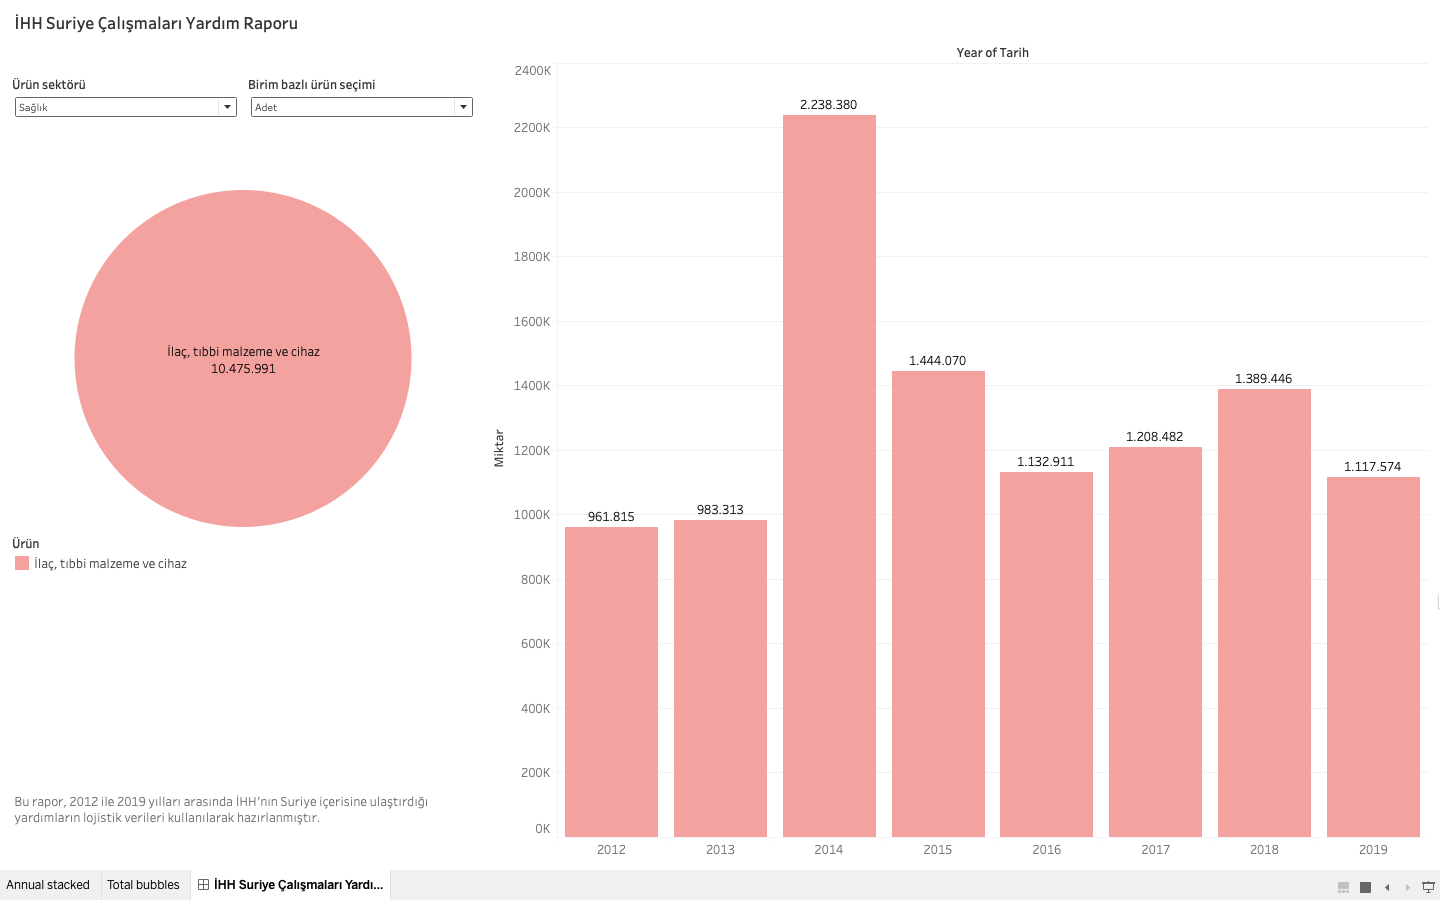

Layout of this report page (visuals, bound fields, positions):
{"tool":"tableau","page":{"name":"İHH Suriye Çalışmaları Yardım Raporu","canvas":[1000,1000],"units":"permille","ordinal":0},"visuals":[{"type":"title","box":[6.5,9.9,987,37.1]},{"type":"blank","box":[6.5,47,326.8,39.4]},{"type":"worksheet","title":"Annual stacked","mark":"Bar","rows":["Miktar"],"cols":["Tarih"],"box":[333.3,47,660.2,943.1]},{"type":"filter","title":"Total bubbles","param":"[federated.1mxeqqh1x6fw6u15vb8dy1q2r8ap].[none:Sektör:nk]","box":[6.5,86.4,163.3,90.4]},{"type":"filter","title":"Total bubbles","param":"[federated.1mxeqqh1x6fw6u15vb8dy1q2r8ap].[none:Birim:nk]","box":[169.8,86.4,163.5,90.4]},{"type":"blank","box":[6.5,176.8,326.8,39.6]},{"type":"worksheet","title":"Total bubbles","mark":"Circle","box":[6.5,216.4,326.8,394.6]},{"type":"legend","title":"Total bubbles","param":"[federated.1mxeqqh1x6fw6u15vb8dy1q2r8ap].[none:Ürün:nk]","box":[6.5,611.1,326.8,258.9]},{"type":"text","box":[6.5,869.9,326.8,120.2]}]}

Visuals, with their boxes on the dashboard's canvas, which has no fixed pixel size, in thousandths of its width and height (x1, y1, x2, y2). These are canvas units, not pixel positions in the 1440x900 screenshot, which may show the page scaled, cropped or inside an application window:
title: 6, 10, 994, 47
blank: 6, 47, 333, 86
"Annual stacked" worksheet (Bar marks): 333, 47, 994, 990
"Total bubbles" filter: 6, 86, 170, 177
"Total bubbles" filter: 170, 86, 333, 177
blank: 6, 177, 333, 216
"Total bubbles" worksheet (Circle marks): 6, 216, 333, 611
"Total bubbles" legend: 6, 611, 333, 870
text: 6, 870, 333, 990
